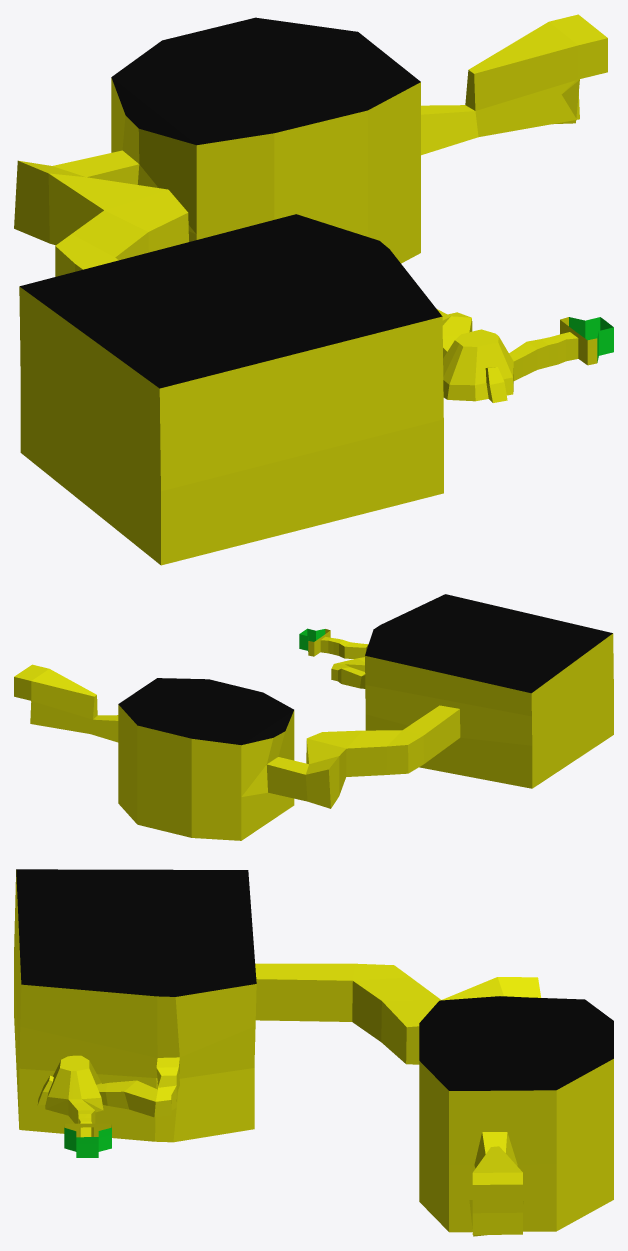
File: MapModel.glb
The picture shows the model from 3 angles, top to bottom: view 1: azimuth 30°, elevation 25°; view 2: azimuth 150°, elevation 25°; view 3: azimuth 270°, elevation 25°; orthographic projection. The views are drawn at different scales.
Visible parts, largest first — view 1: Plane; view 2: Plane; view 3: Plane.
Part boxes in pixels (<box>): Plane: <box>14,14,613,565</box>; Plane: <box>14,594,613,840</box>; Plane: <box>14,869,613,1234</box>.
Size of the model in its own units: 2035 by 493 by 1764.
